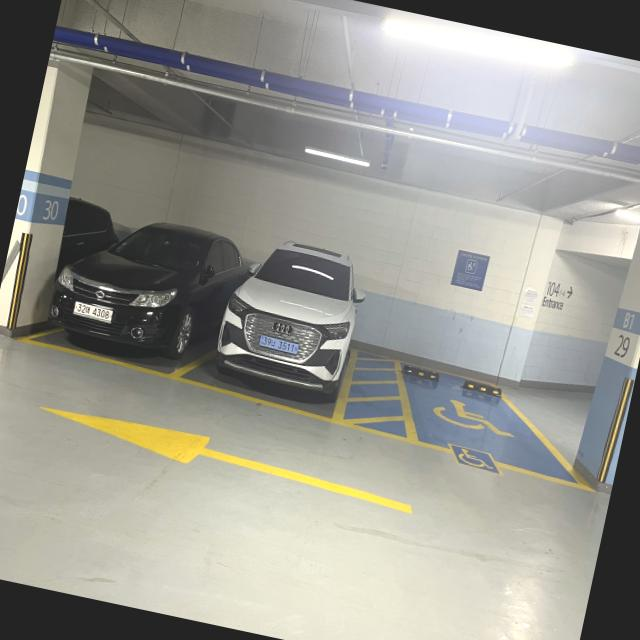car: (58, 204, 231, 389), (210, 238, 376, 424)
free: (399, 369, 584, 492)
